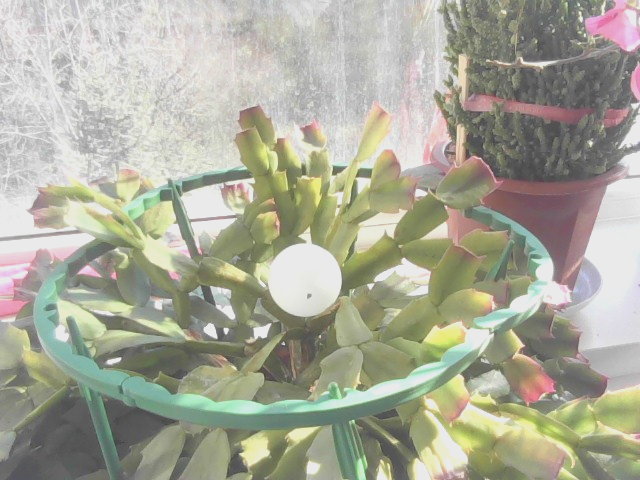ball: (271, 244, 342, 318)
